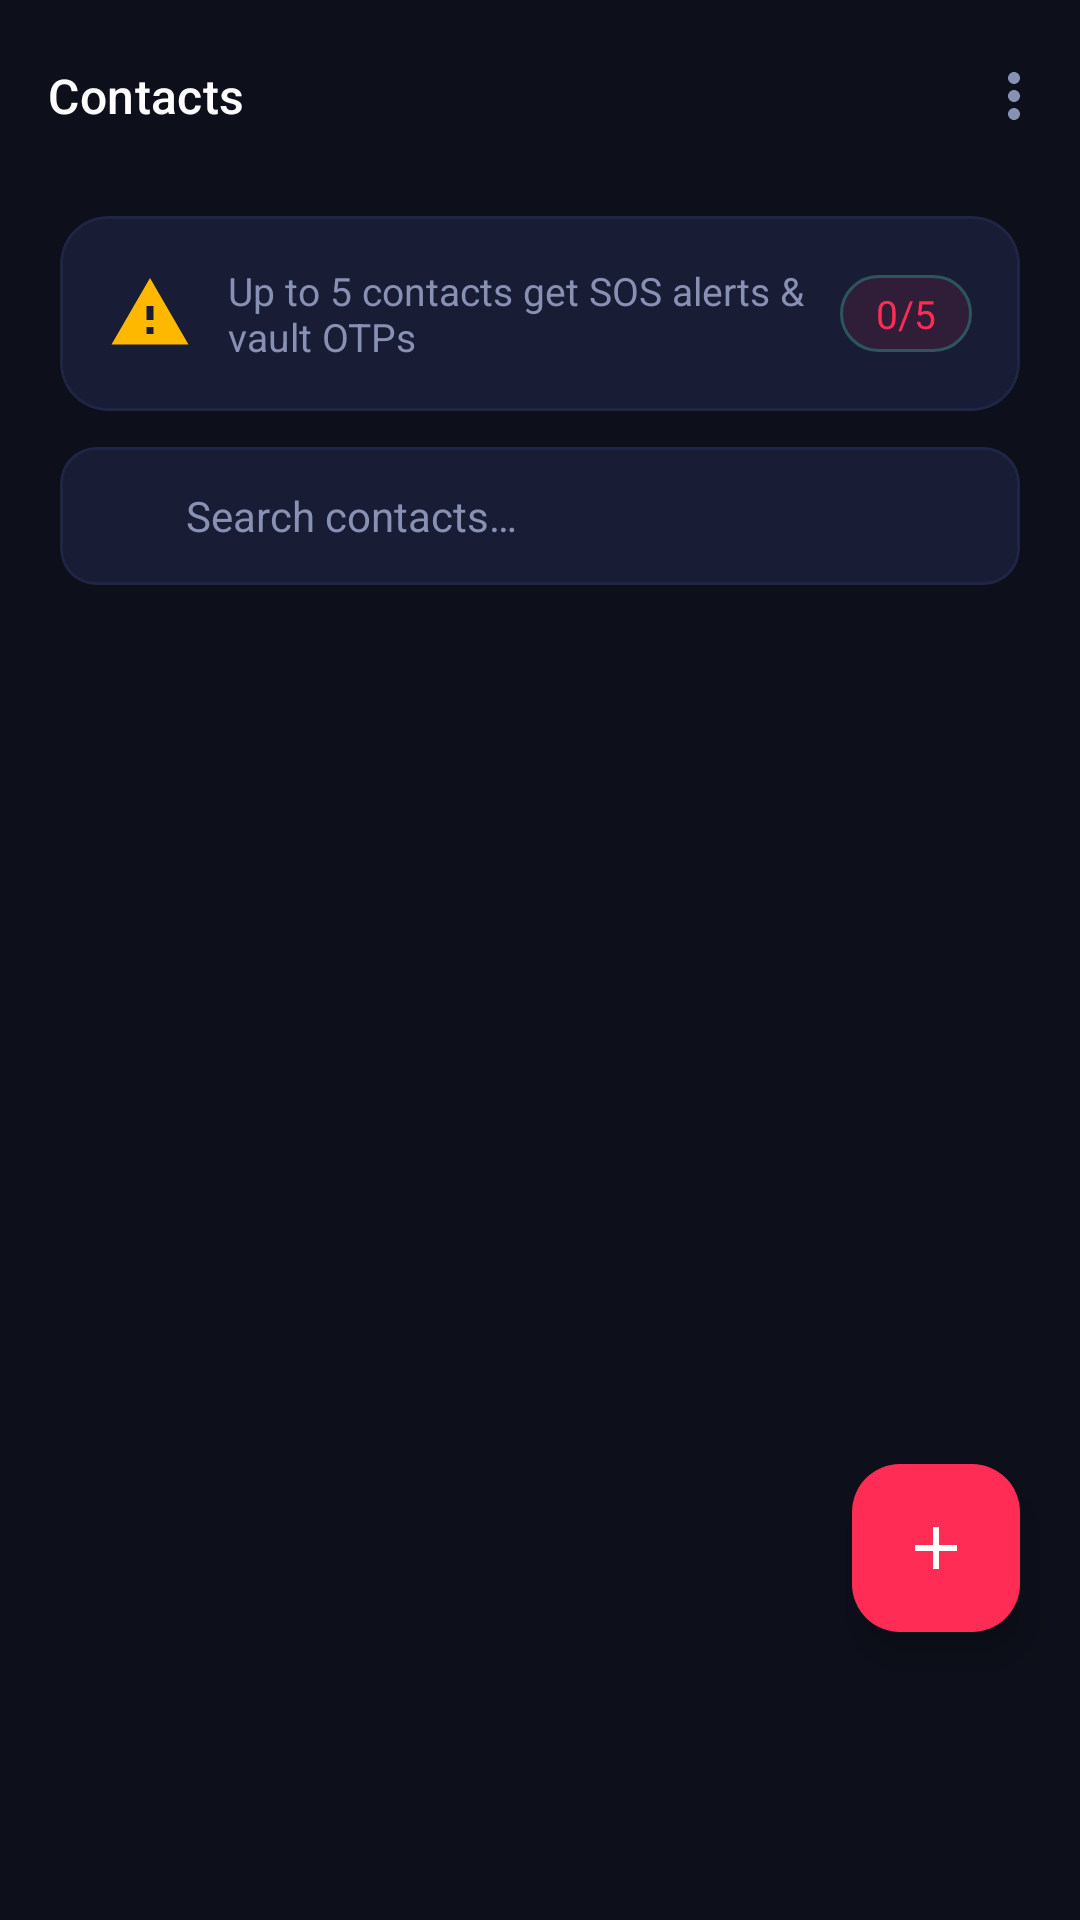

Icon bounding boxes for this 1080x1920 phone screenshot, format (x1, y1, x2, y2):
Alert Icon: (111, 278, 189, 345)
